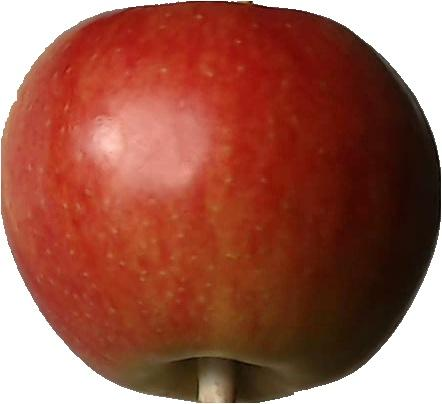Apple Ripe: (0, 0, 442, 399)
